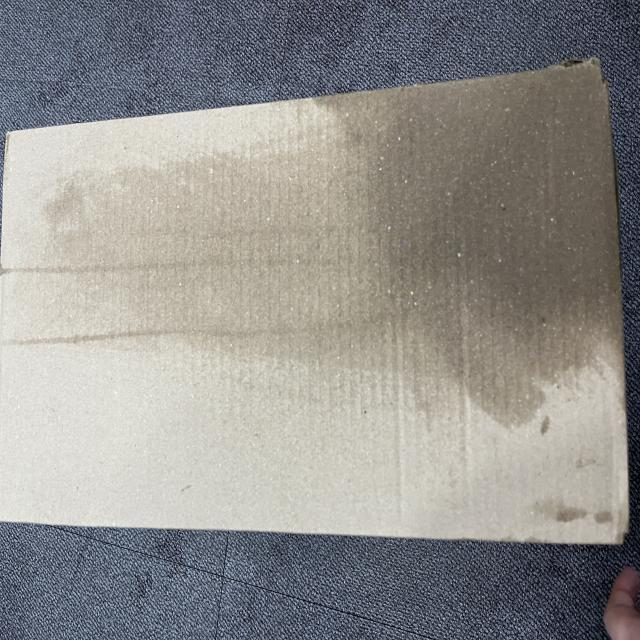wet: (312, 60, 624, 424)
